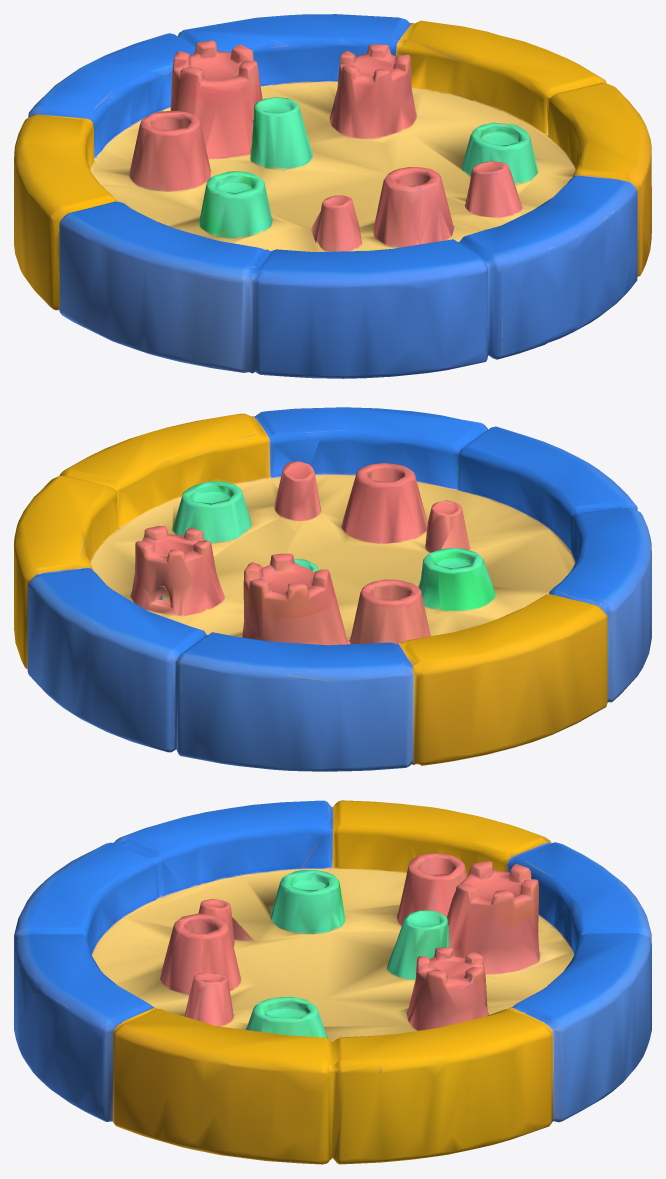
File: static.glb
The picture shows the model from 3 angles, top to bottom: view 1: azimuth 30°, elevation 25°; view 2: azimuth 150°, elevation 25°; view 3: azimuth 270°, elevation 25°; orthographic projection.
Visible parts, largest first — view 1: Mesh_0; view 2: Mesh_0; view 3: Mesh_0.
Boxes of the visible parts, x1,y1,x2,y2 form: Mesh_0: (14,14,651,378); Mesh_0: (14,407,651,771); Mesh_0: (14,800,651,1164).
Bounding box in the file's own units: 1.9 × 0.474 × 1.89.
1 material, 1 textured.
